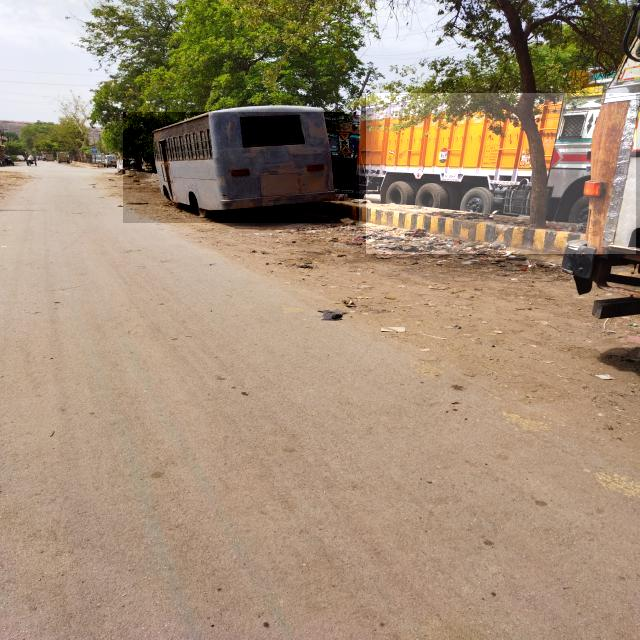Bus: (123, 112, 360, 223)
Truck: (366, 93, 636, 254)
